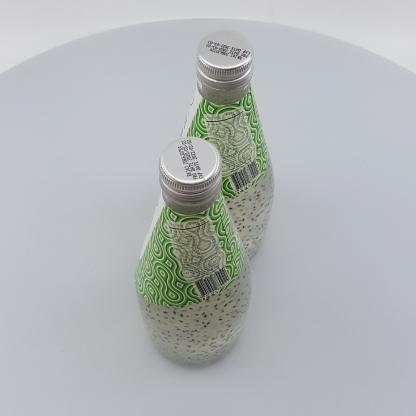------------------------: (135, 136, 252, 369), (179, 30, 274, 258)
